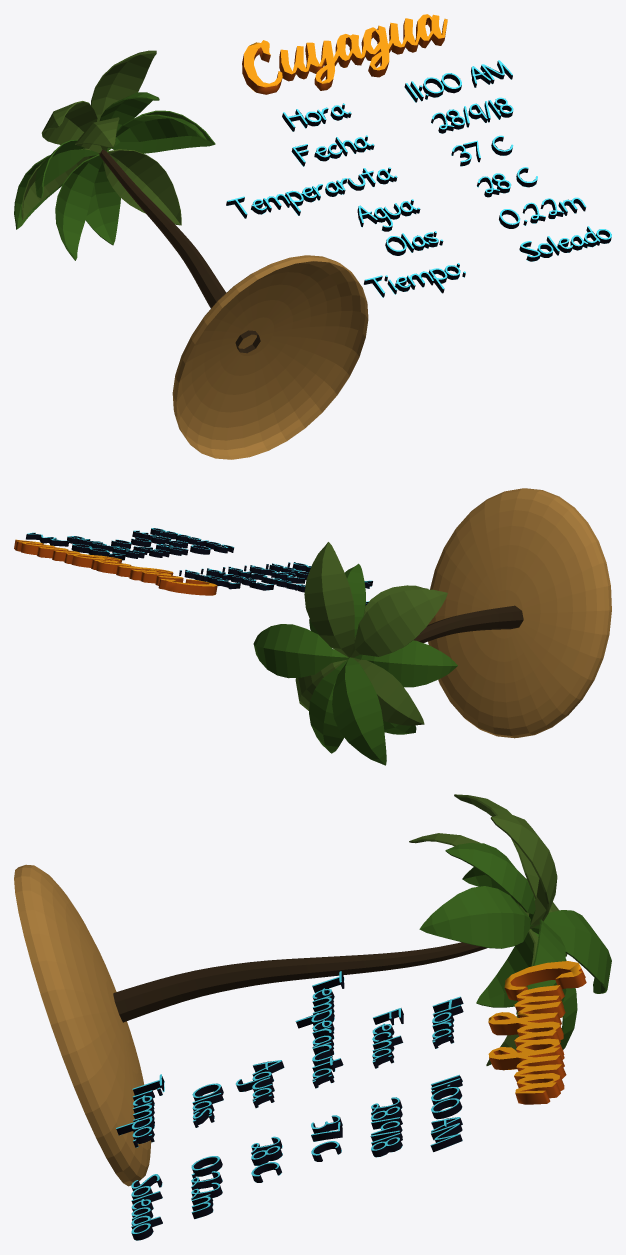
The model's file is cuyagua-palmultimateROT1.obj.
3 renders of one model, top to bottom at view 1: azimuth 30°, elevation 25°; view 2: azimuth 150°, elevation 25°; view 3: azimuth 270°, elevation 25°, orthographic. The views are drawn at different scales.
Visible parts, largest first — view 1: Sphere.001, Palm-tree_Cylinder.000, Text.000; view 2: Sphere.001, Palm-tree_Cylinder.000, Text.000; view 3: Palm-tree_Cylinder.000, Text.000, Sphere.001.
Boxes of the visible parts, x1,y1,x2,y2 form: Sphere.001: [172, 255, 368, 459]; Palm-tree_Cylinder.000: [14, 50, 260, 353]; Text.000: [226, 14, 611, 297]; Sphere.001: [428, 488, 611, 738]; Palm-tree_Cylinder.000: [253, 542, 523, 765]; Text.000: [14, 528, 372, 605]; Palm-tree_Cylinder.000: [113, 794, 611, 1065]; Text.000: [116, 961, 586, 1240]; Sphere.001: [14, 864, 151, 1186].
Size of the model in its own units: 3.34 by 2 by 2.81.
